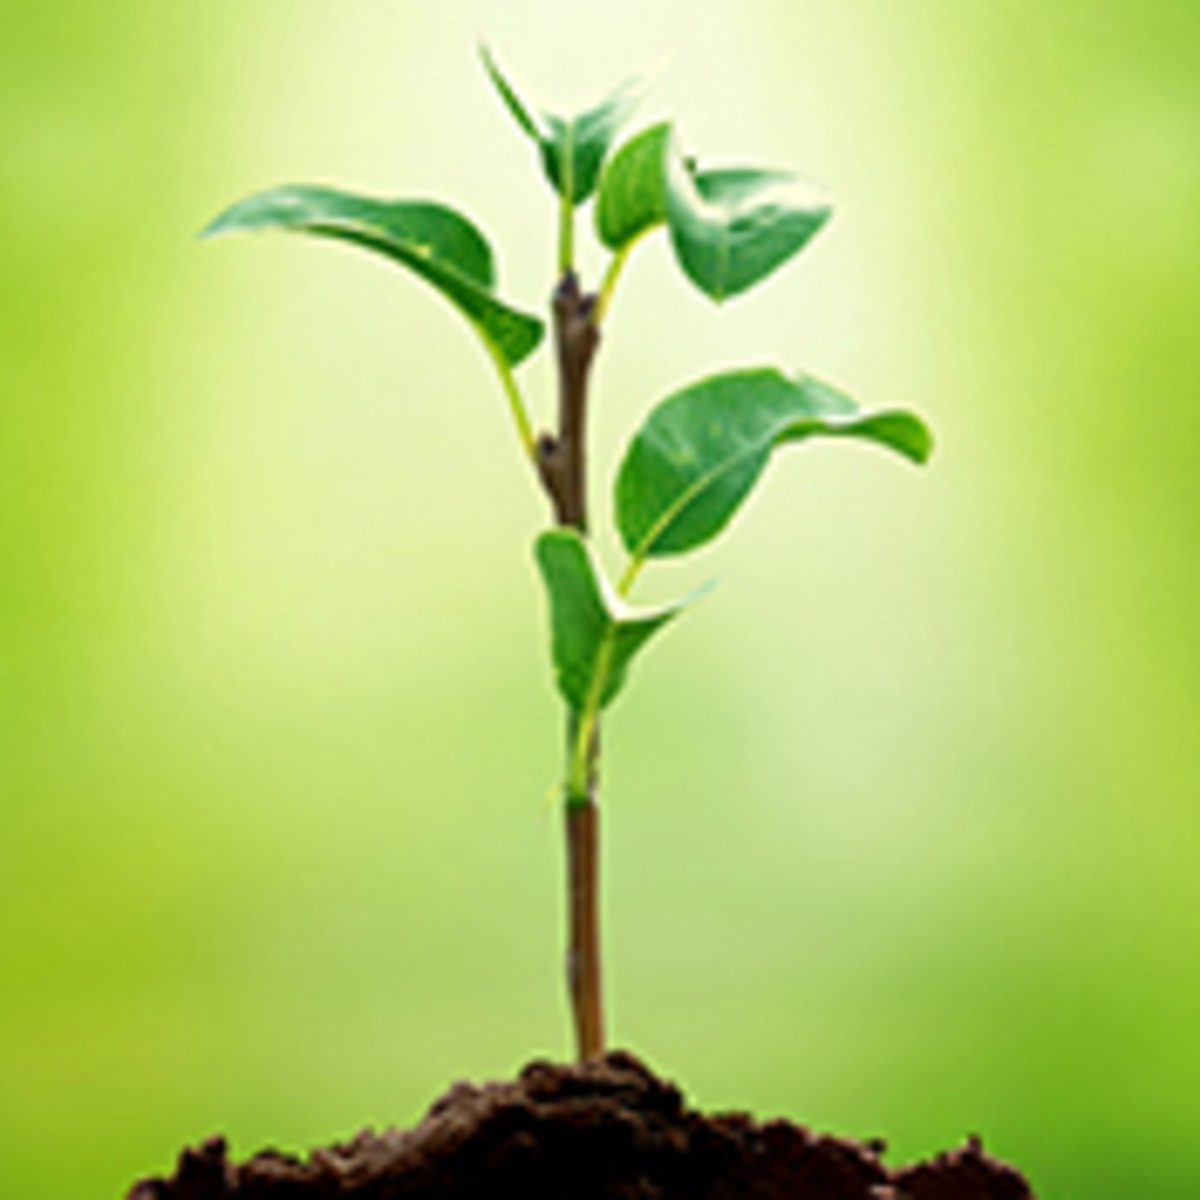plant: (195, 29, 936, 1200)
